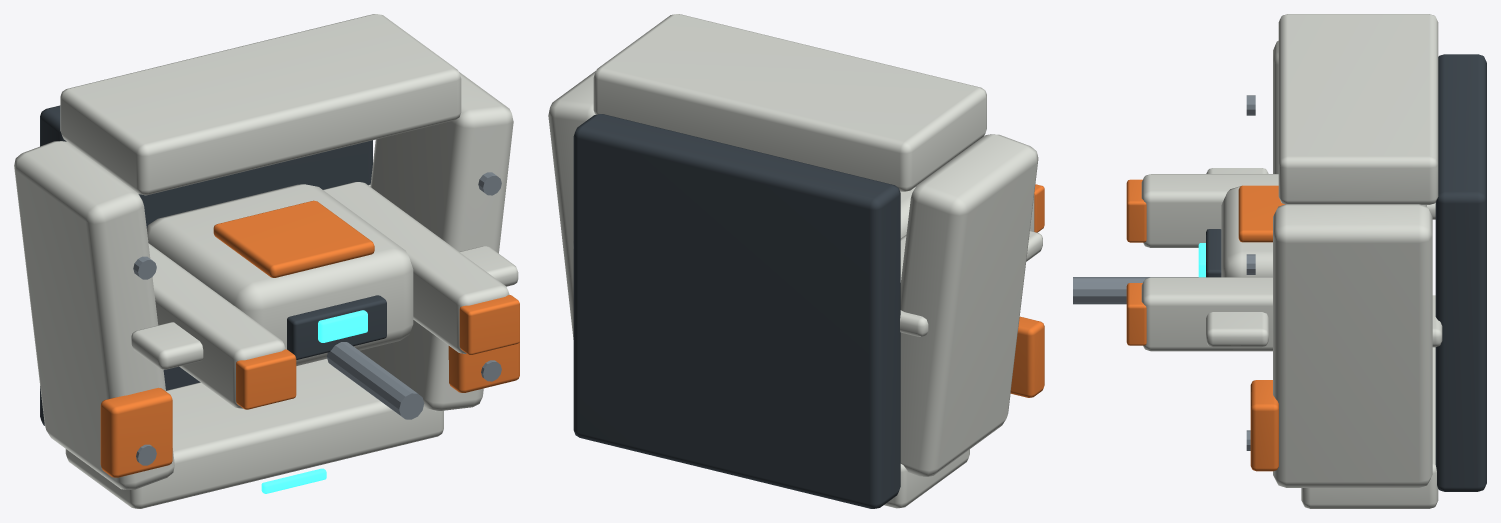
File: VXDR_INTERCEPT_v001_DOCKED.fbx
The picture shows the model from 3 angles, left to right: view 1: azimuth 30°, elevation 25°; view 2: azimuth 150°, elevation 25°; view 3: azimuth 270°, elevation 25°; orthographic projection. The views are drawn at different scales.
Parts seen in each view (by area): view 1: Docked_Top bridge, Docked_Cradle armored rail, Docked_Bottom charging bridge, Docked_Cradle armored rail.001, Docked_Armored sensor shell, Docked_Interceptor pylon.001, Docked_Interceptor pylon, Docked_Body mounting plate, Docked_Top identification, Docked_Rail orange latch, Docked_Sensor recess, Docked_Interceptor barrel (+7 smaller); view 2: Docked_Body mounting plate, Docked_Top bridge, Docked_Cradle armored rail, Docked_Cradle armored rail.001, Docked_Rail orange latch, Docked_Bottom charging bridge, Docked_Foldable stabilizer.001; view 3: Docked_Cradle armored rail.001, Docked_Top bridge, Docked_Body mounting plate, Docked_Interceptor pylon.001, Docked_Interceptor pylon, Docked_Bottom charging bridge, Docked_Armored sensor shell, Docked_Rail orange latch.001, Docked_Foldable stabilizer.002, Docked_Top identification, Docked_Interceptor barrel, Docked_Pylon nose (+3 smaller).
Boxes of the visible parts, box(x1,y1,x2,y2) form: Docked_Top bridge: box(60, 14, 461, 195); Docked_Cradle armored rail: box(14, 141, 174, 489); Docked_Bottom charging bridge: box(65, 359, 443, 508); Docked_Cradle armored rail.001: box(360, 72, 513, 411); Docked_Armored sensor shell: box(147, 184, 413, 365); Docked_Interceptor pylon.001: box(323, 182, 509, 353); Docked_Interceptor pylon: box(148, 243, 285, 408); Docked_Body mounting plate: box(40, 105, 372, 425); Docked_Top identification: box(213, 200, 374, 277); Docked_Rail orange latch: box(100, 387, 172, 477); Docked_Sensor recess: box(287, 295, 386, 359); Docked_Interceptor barrel: box(326, 342, 424, 419); Docked_Body mounting plate: box(573, 114, 900, 508); Docked_Top bridge: box(593, 14, 986, 191); Docked_Cradle armored rail: box(900, 134, 1038, 476); Docked_Cradle armored rail.001: box(548, 71, 595, 339); Docked_Rail orange latch: box(1010, 316, 1044, 397); Docked_Bottom charging bridge: box(884, 449, 969, 508); Docked_Foldable stabilizer.001: box(900, 310, 928, 336); Docked_Cradle armored rail.001: box(1273, 204, 1432, 487); Docked_Top bridge: box(1278, 14, 1438, 204); Docked_Body mounting plate: box(1435, 54, 1486, 491); Docked_Interceptor pylon.001: box(1141, 277, 1272, 351); Docked_Interceptor pylon: box(1141, 174, 1278, 247); Docked_Bottom charging bridge: box(1301, 347, 1438, 508); Docked_Armored sensor shell: box(1221, 186, 1426, 277); Docked_Rail orange latch.001: box(1250, 380, 1278, 471); Docked_Foldable stabilizer.002: box(1206, 312, 1268, 347); Docked_Top identification: box(1238, 185, 1284, 242); Docked_Interceptor barrel: box(1073, 277, 1198, 304); Docked_Pylon nose: box(1126, 179, 1146, 242).
Bounding box in the file's own units: 40.81 × 35 × 36.25.
